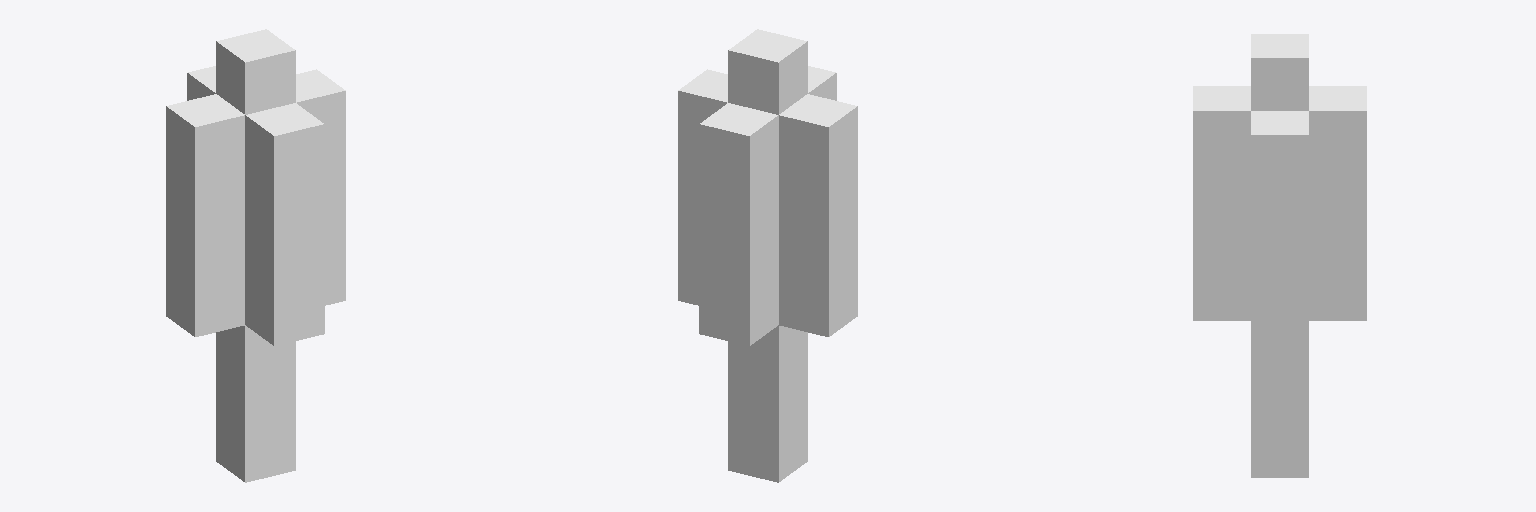
The model's file is Mushroom4_S.obj.
3 views of the same model, side by side, from view 1: azimuth 30°, elevation 25°; view 2: azimuth 150°, elevation 25°; view 3: azimuth 270°, elevation 25° (orthographic).
Visible parts, largest first — view 1: Mushroom4_S; view 2: Mushroom4_S; view 3: Mushroom4_S.
Part boxes in pixels (bbox=[...]): Mushroom4_S: bbox=[166, 29, 345, 482]; Mushroom4_S: bbox=[678, 29, 857, 482]; Mushroom4_S: bbox=[1193, 34, 1366, 477].
Bounding box in the file's own units: 0.3 × 0.8 × 0.3.